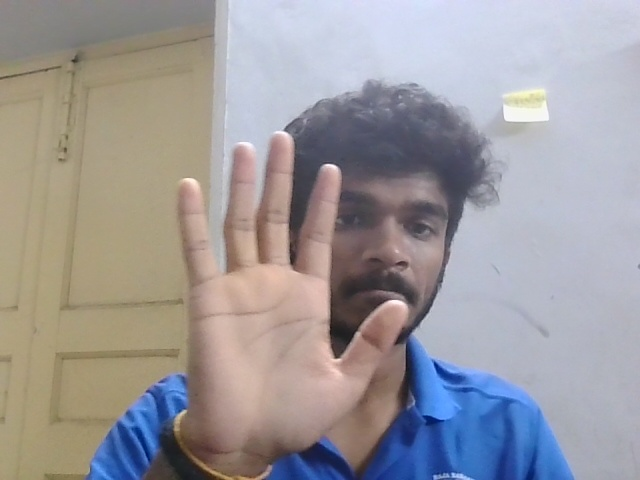Hello: (147, 130, 430, 448)
